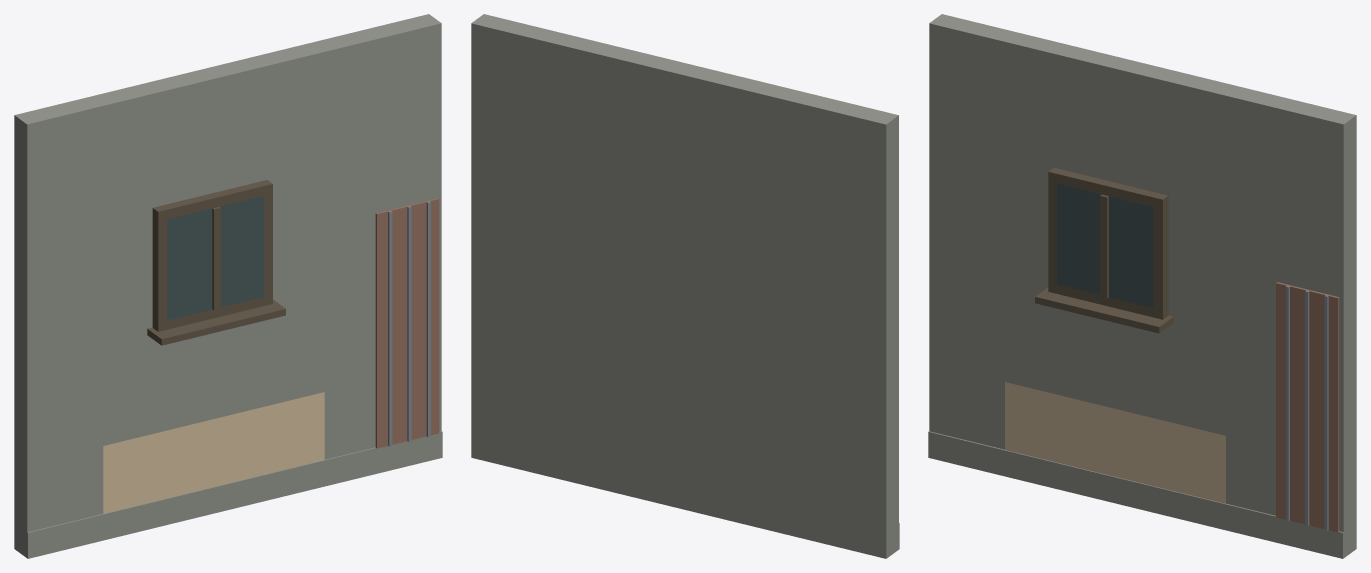
3 renders of one model, left to right at view 1: azimuth 30°, elevation 25°; view 2: azimuth 150°, elevation 25°; view 3: azimuth 330°, elevation 25°, orthographic.
Visible parts, largest first — view 1: a2015/500/base-w1; view 2: a2015/500/base-w1; view 3: a2015/500/base-w1.
Boxes of the visible parts, x1=… form: a2015/500/base-w1: x1=14, y1=14, x2=442, y2=558; a2015/500/base-w1: x1=471, y1=14, x2=899, y2=558; a2015/500/base-w1: x1=928, y1=14, x2=1356, y2=558.
Bounding box in the file's own units: 3 × 3 × 0.34.
